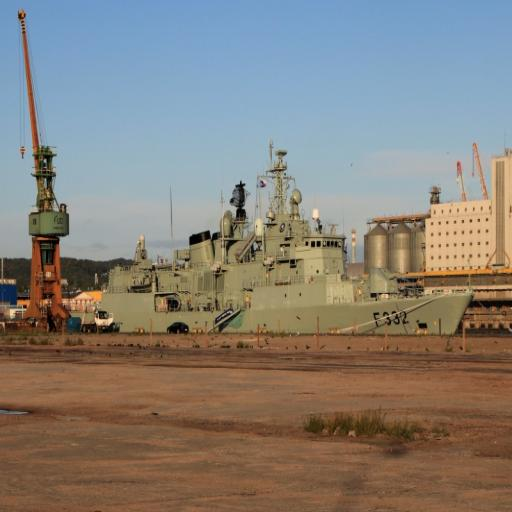Fragata: (87, 141, 481, 341)
